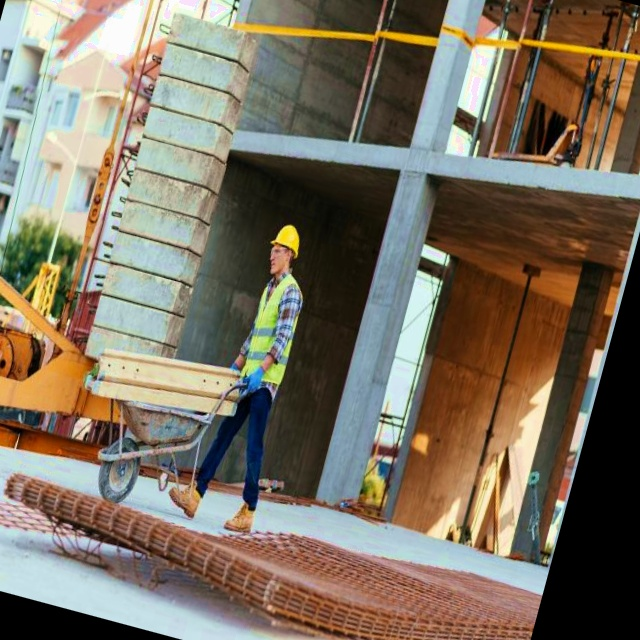Con_Casco: (265, 219, 305, 273)
Con_Chaleco: (234, 268, 311, 397)
